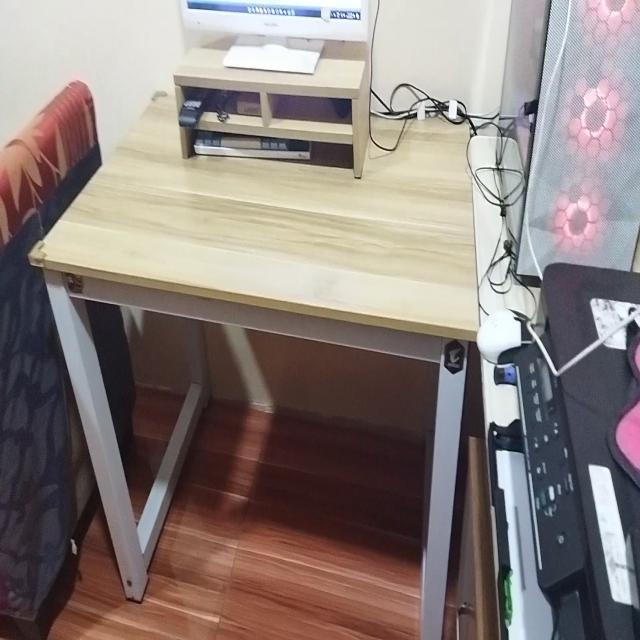table: (34, 76, 477, 640)
